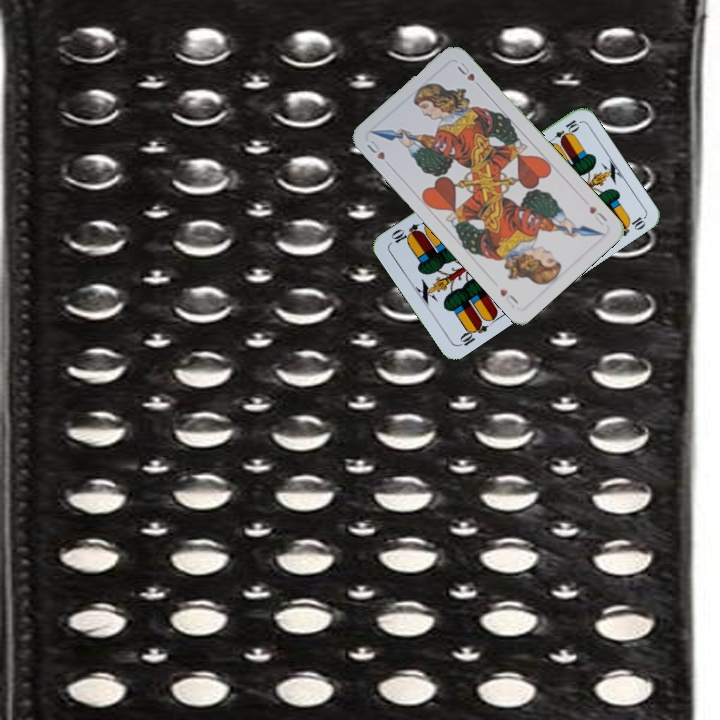E10: (454, 316, 490, 349), (545, 116, 582, 147)
HU: (363, 135, 387, 163), (585, 202, 610, 228)
